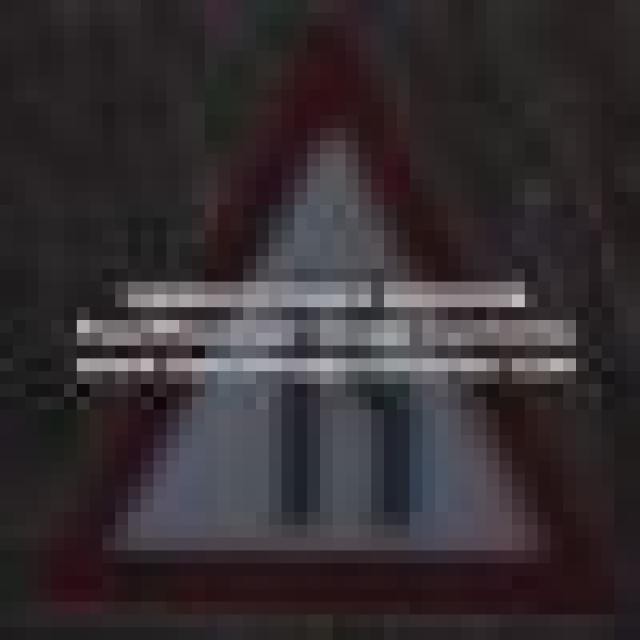narrow_road: (38, 39, 614, 602)
